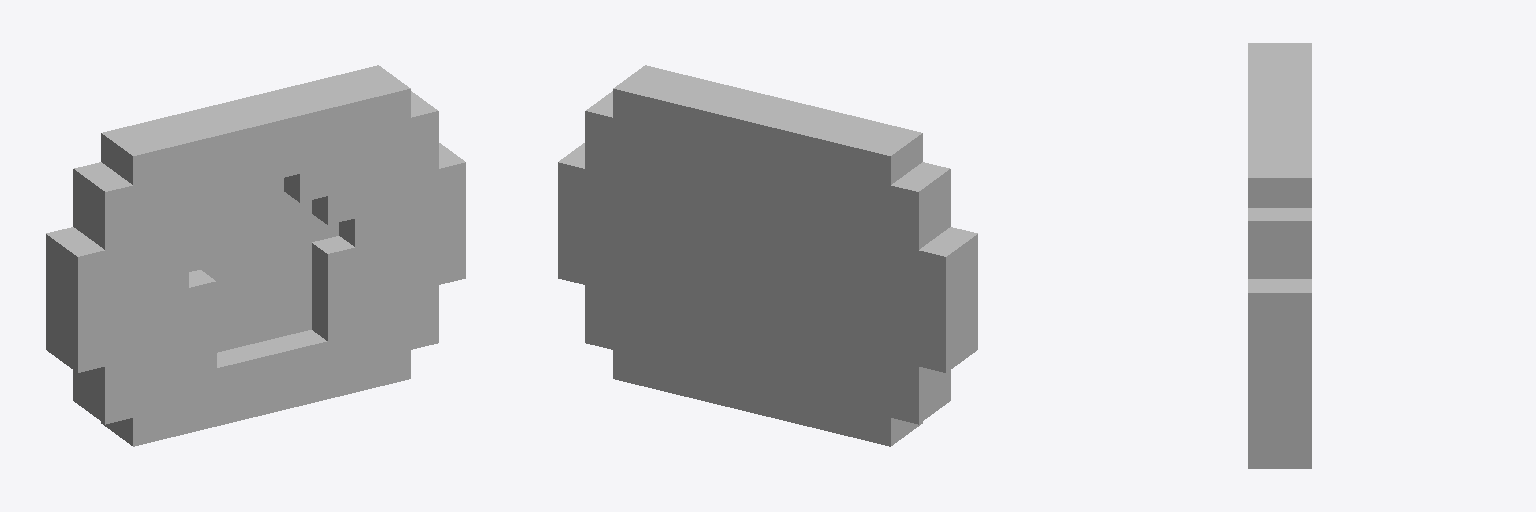
Rendered from home.obj.
The picture shows the model from 3 angles: view 1: azimuth 30°, elevation 25°; view 2: azimuth 150°, elevation 25°; view 3: azimuth 270°, elevation 25°; orthographic projection.
Visible parts, largest first — view 1: object 1; view 2: object 1; view 3: object 1.
Part boxes in pixels (left/top/right/bottom): object 1: left=46, top=65, right=465, bottom=446; object 1: left=558, top=65, right=977, bottom=446; object 1: left=1248, top=43, right=1311, bottom=468.
Bounding box in the file's own units: 1.4 × 1 × 0.2.